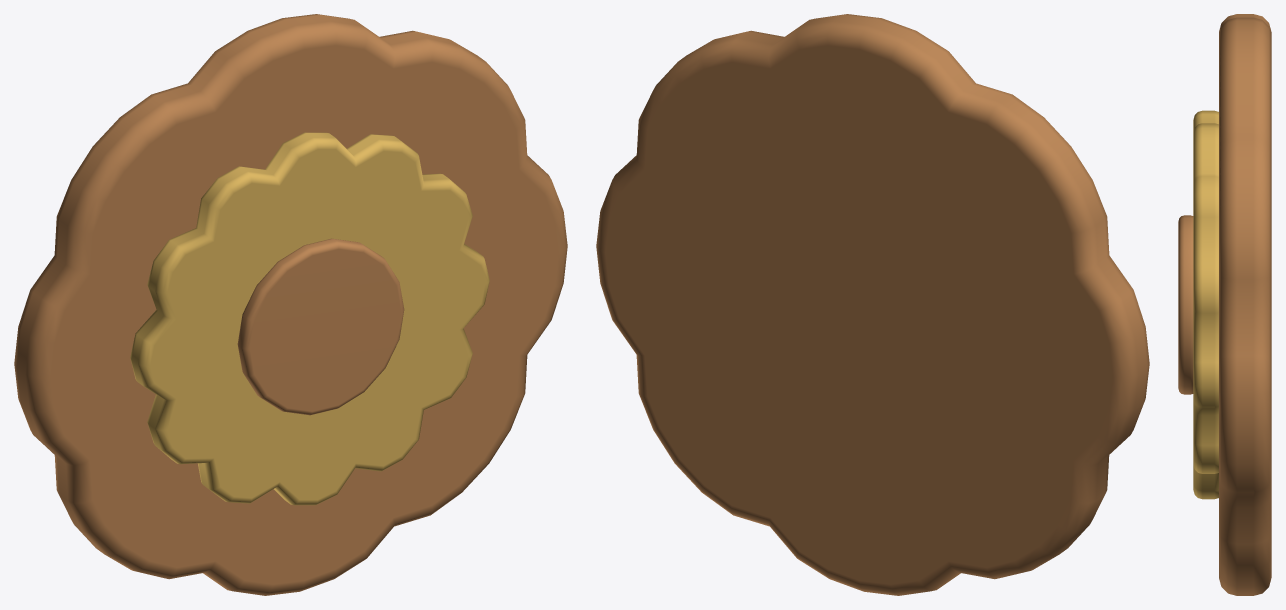
Rendered from round_award_plaque.glb.
3 views of the same model, side by side, from view 1: azimuth 30°, elevation 25°; view 2: azimuth 150°, elevation 25°; view 3: azimuth 270°, elevation 25° (orthographic). The views are drawn at different scales.
Parts seen in each view (by area): view 1: round_award_plaque_mesh; view 2: round_award_plaque_mesh; view 3: round_award_plaque_mesh.
Boxes of the visible parts, box(x1,y1,x2,y2) form: round_award_plaque_mesh: box(14, 14, 567, 595); round_award_plaque_mesh: box(596, 14, 1149, 595); round_award_plaque_mesh: box(1178, 14, 1271, 595).
Size of the model in its own units: 0.4 by 0.4 by 0.062.
